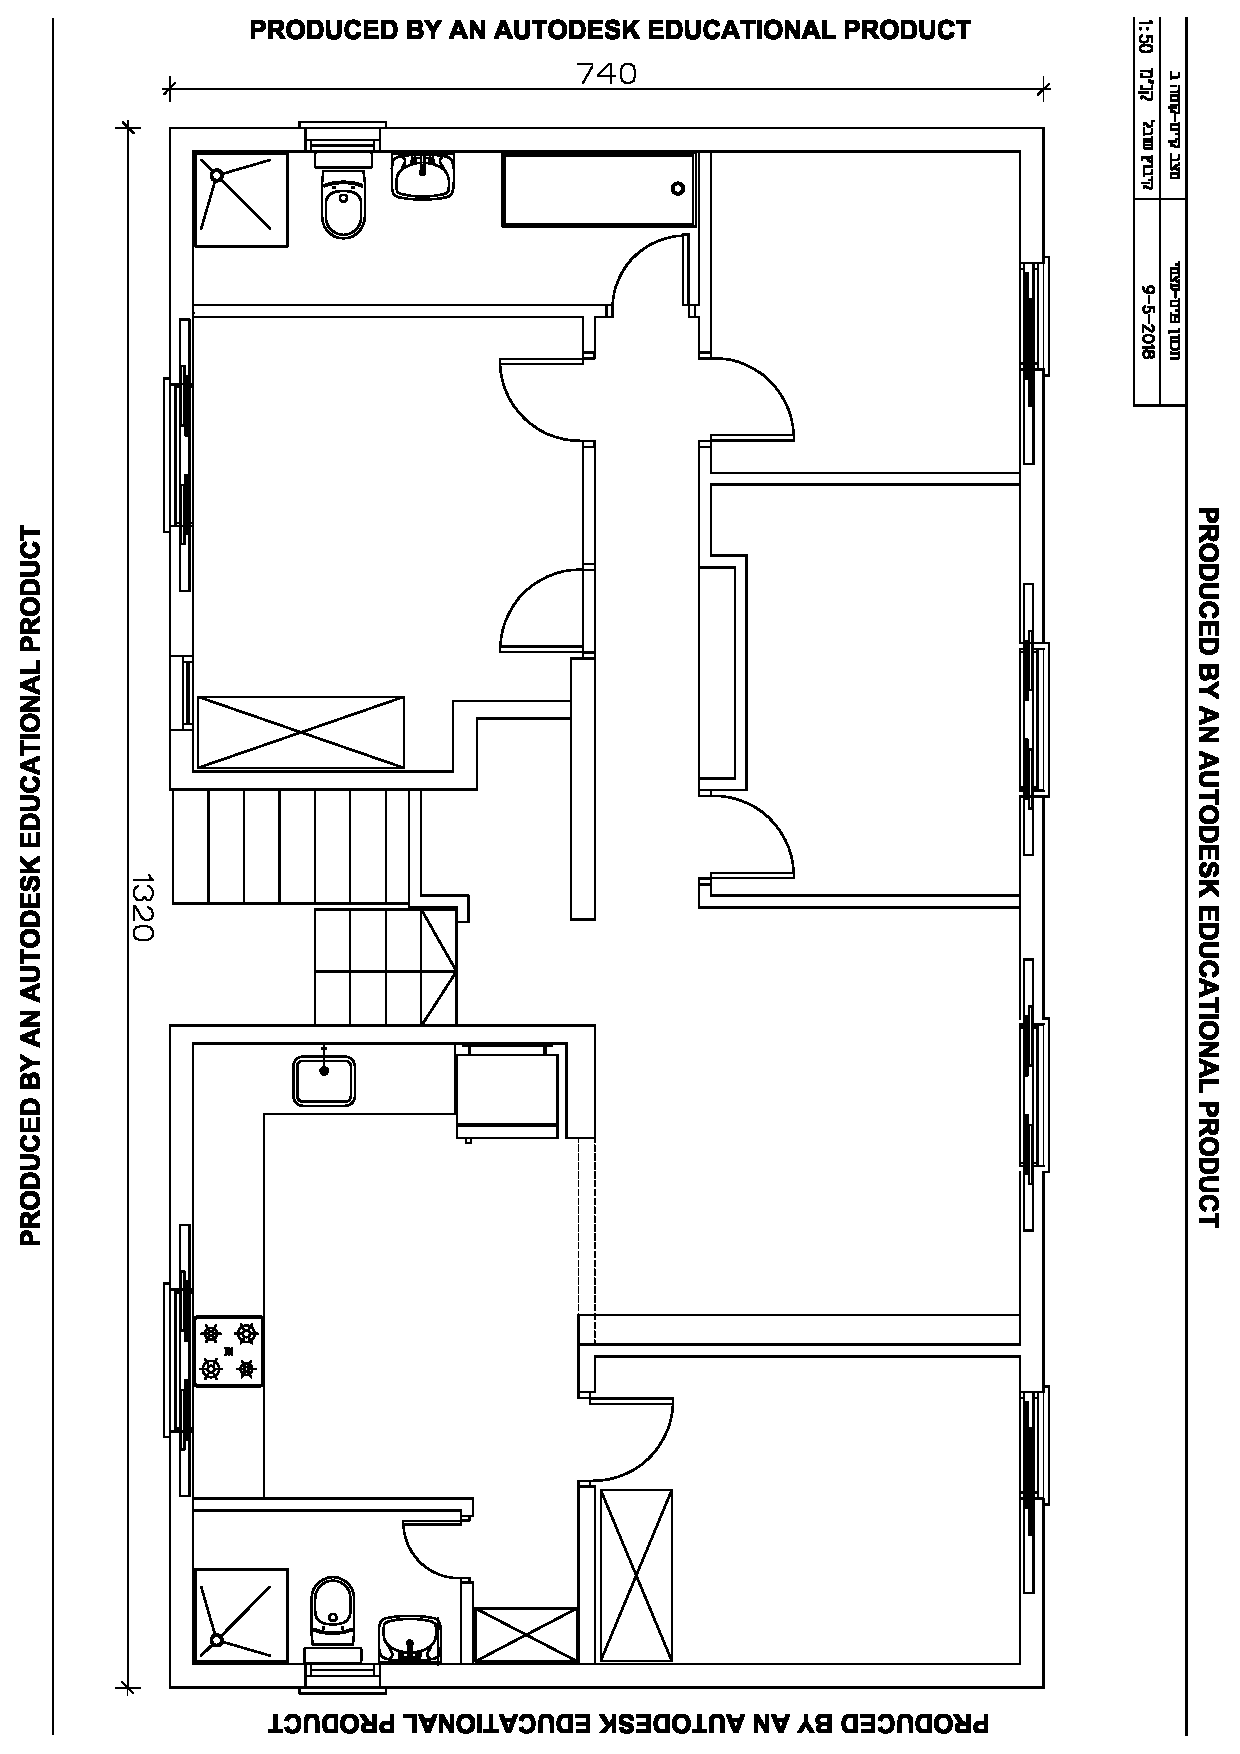door: (711, 349, 809, 456), (705, 793, 807, 886), (480, 564, 582, 654), (488, 352, 578, 446), (597, 1386, 676, 1478), (590, 234, 692, 301), (385, 1516, 467, 1584)
